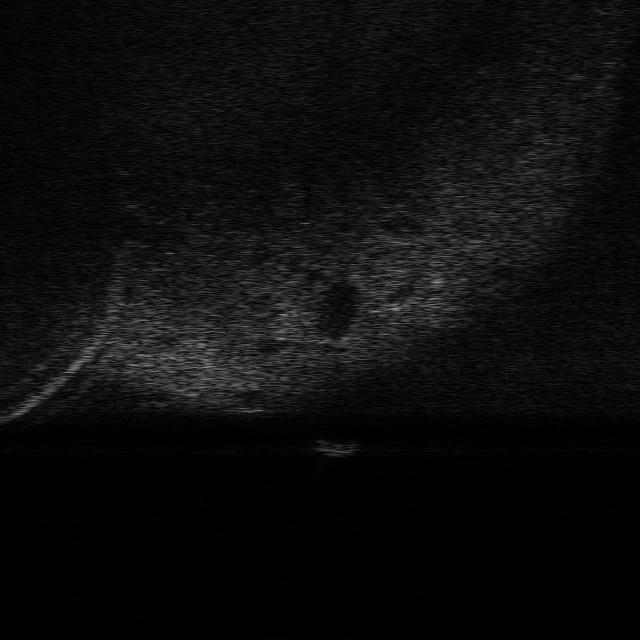cube: (310, 438, 360, 459)
